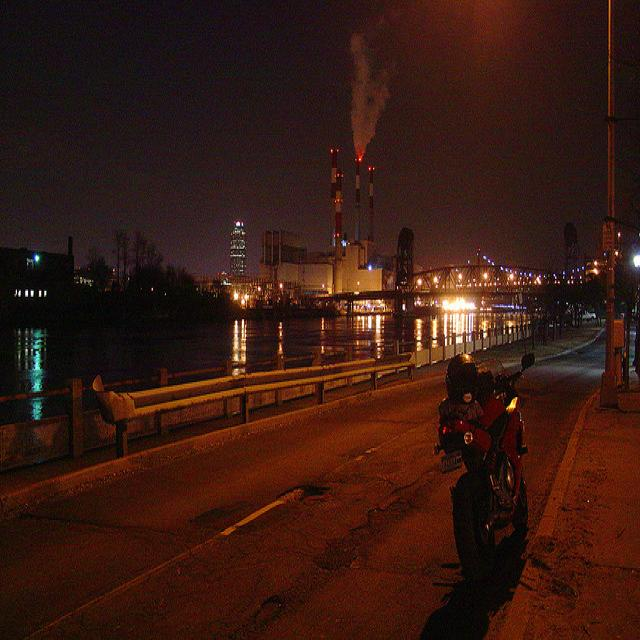Motorbike: (431, 328, 537, 587)
